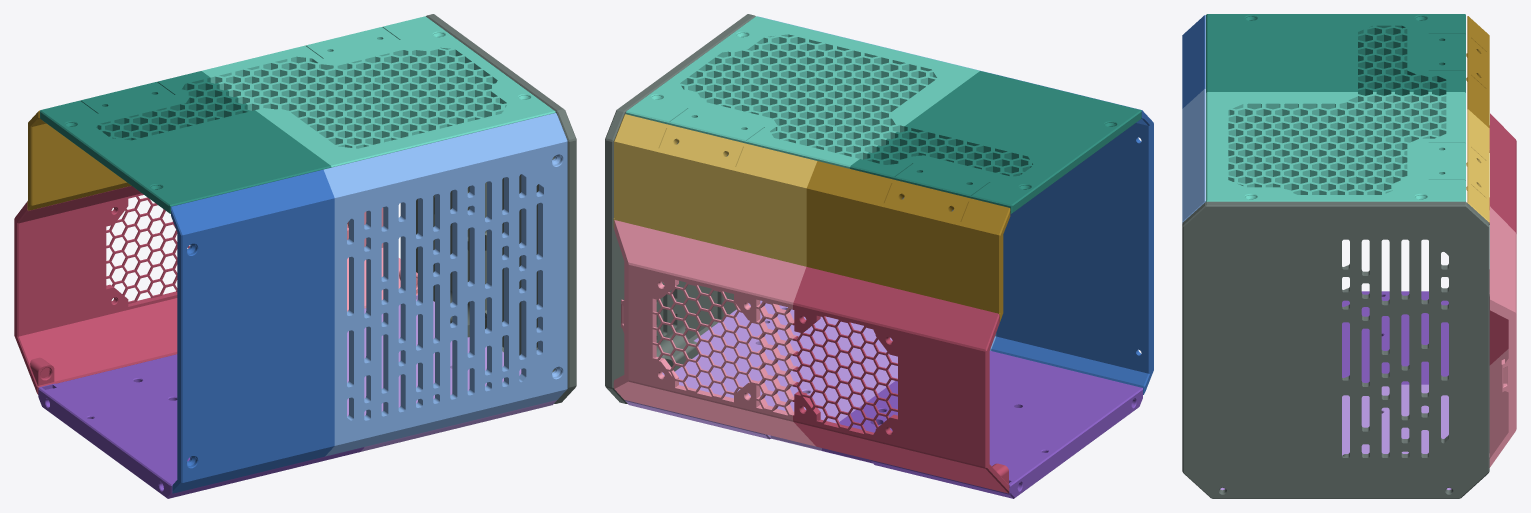
File: whole.glb
3 views of the same model, side by side, from view 1: azimuth 30°, elevation 25°; view 2: azimuth 150°, elevation 25°; view 3: azimuth 270°, elevation 25° (orthographic).
Parts seen in each view (by area): view 1: Back_B, Back_A, Top_B, FrontLower_A, Top_A, Bottom_A, Left, FrontUpper_A, Bottom_B, FrontLower_B; view 2: Back_A, FrontLower_A, Top_B, FrontLower_B, Top_A, FrontUpper_A, FrontUpper_B, Bottom_A, Bottom_B, Left; view 3: Left, Top_B, Top_A, FrontLower_B, FrontLower_A, Bottom_A, Back_B, Bottom_B, FrontUpper_B, FrontUpper_A, Back_A.
Boxes of the visible parts, x1=… form: Back_B: x1=323, y1=113, x2=567, y2=456; Back_A: x1=171, y1=169, x2=334, y2=493; Top_B: x1=202, y1=16, x2=555, y2=167; FrontLower_A: x1=14, y1=186, x2=189, y2=394; Top_A: x1=40, y1=71, x2=331, y2=213; Bottom_A: x1=38, y1=354, x2=364, y2=498; Left: x1=416, y1=14, x2=576, y2=403; FrontUpper_A: x1=27, y1=110, x2=131, y2=210; Bottom_B: x1=347, y1=295, x2=556, y2=451; FrontLower_B: x1=347, y1=207, x2=417, y2=311; Back_A: x1=990, y1=73, x2=1153, y2=394; FrontLower_A: x1=793, y1=267, x2=1009, y2=493; Top_B: x1=626, y1=16, x2=979, y2=168; FrontLower_B: x1=613, y1=220, x2=815, y2=446; Top_A: x1=850, y1=71, x2=1141, y2=213; FrontUpper_A: x1=806, y1=161, x2=1010, y2=322; FrontUpper_B: x1=613, y1=114, x2=817, y2=266; Bottom_A: x1=822, y1=350, x2=1142, y2=498; Bottom_B: x1=625, y1=300, x2=897, y2=450; Left: x1=605, y1=14, x2=755, y2=403; Left: x1=1182, y1=201, x2=1489, y2=498; Top_B: x1=1206, y1=92, x2=1465, y2=201; Top_A: x1=1206, y1=14, x2=1465, y2=95; FrontLower_B: x1=1489, y1=206, x2=1516, y2=467; FrontLower_A: x1=1489, y1=113, x2=1516, y2=365; Bottom_A: x1=1342, y1=291, x2=1448, y2=384; Back_B: x1=1182, y1=89, x2=1205, y2=223; Bottom_B: x1=1220, y1=384, x2=1451, y2=490; FrontUpper_B: x1=1466, y1=109, x2=1489, y2=223; FrontUpper_A: x1=1466, y1=16, x2=1489, y2=127; Back_A: x1=1182, y1=15, x2=1205, y2=108.
Size of the model in its own units: 0.2295 by 0.1639 by 0.1688.
